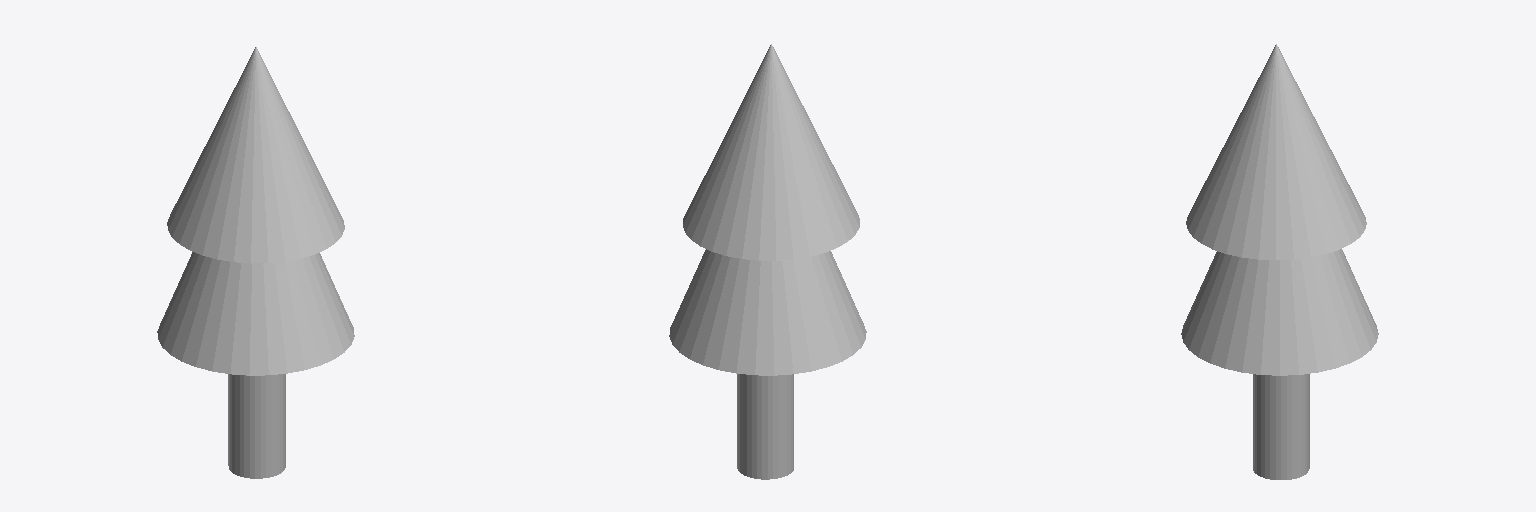
Rendered from Tree.obj.
The picture shows the model from 3 angles: view 1: azimuth 30°, elevation 25°; view 2: azimuth 150°, elevation 25°; view 3: azimuth 270°, elevation 25°; orthographic projection.
Visible parts, largest first — view 1: Cube; view 2: Cube; view 3: Cube.
Boxes of the visible parts, <box> form: Cube: <box>157,47,354,478</box>; Cube: <box>669,44,866,479</box>; Cube: <box>1181,44,1378,479</box>.
Size of the model in its own units: 0.6031 by 1.42 by 0.6021.